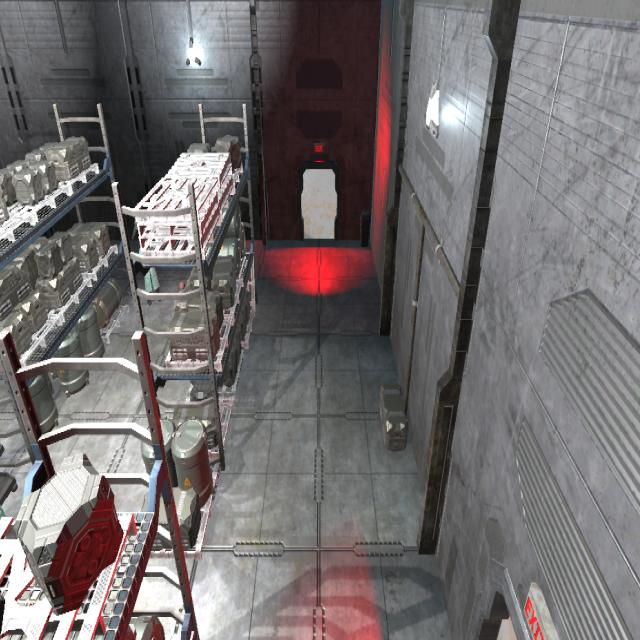thiefs: (177, 281, 185, 292)
